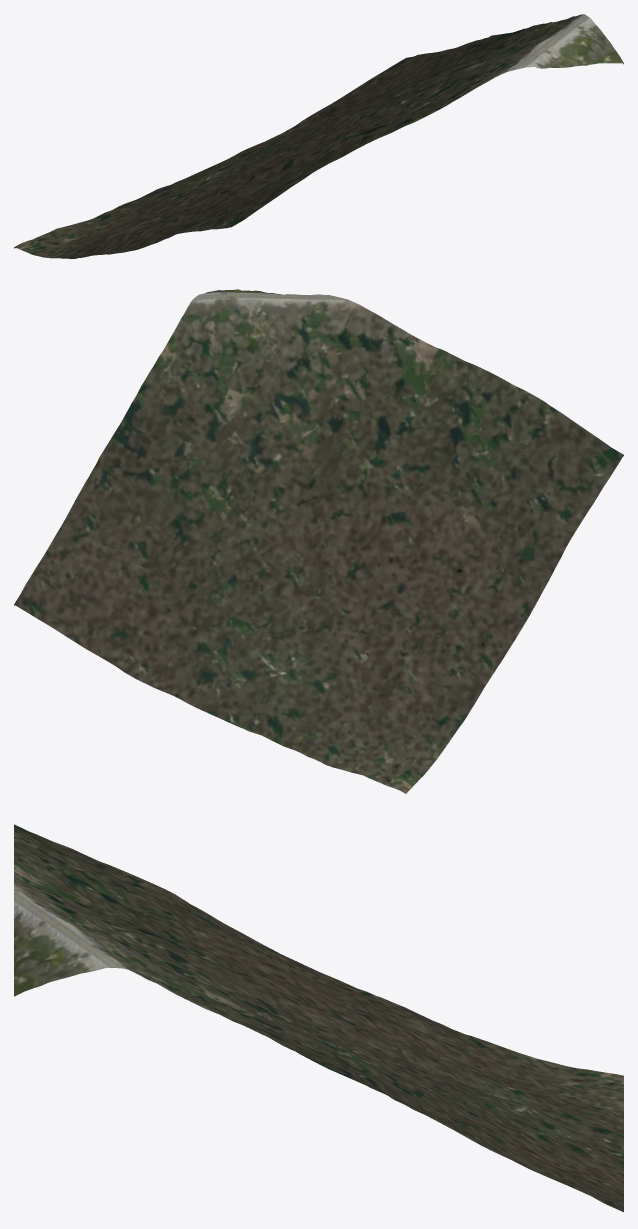
3 renders of one model, top to bottom at view 1: azimuth 30°, elevation 25°; view 2: azimuth 150°, elevation 25°; view 3: azimuth 270°, elevation 25°, orthographic. The views are drawn at different scales.
Bounding box in the file's own units: 250 × 165 × 241.
1 material, 1 textured.
